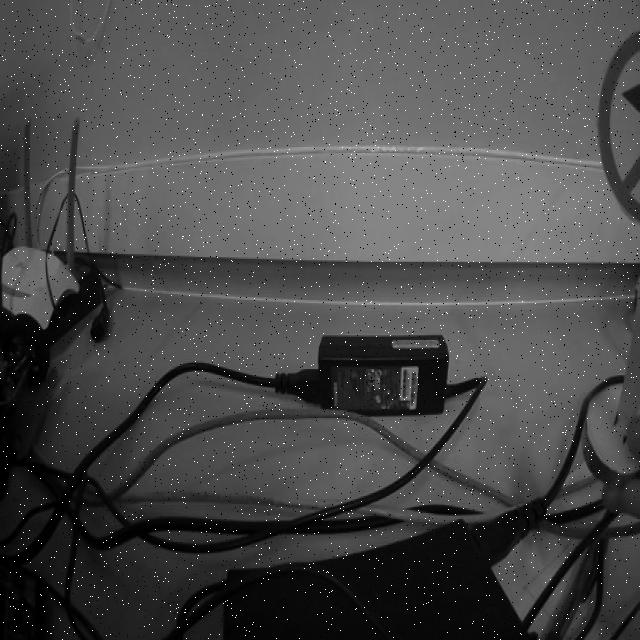Dilarang Belok Kiri: (596, 31, 640, 222)
